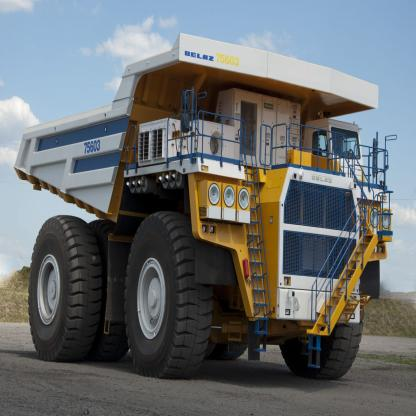dump_truck: (10, 27, 390, 389)
